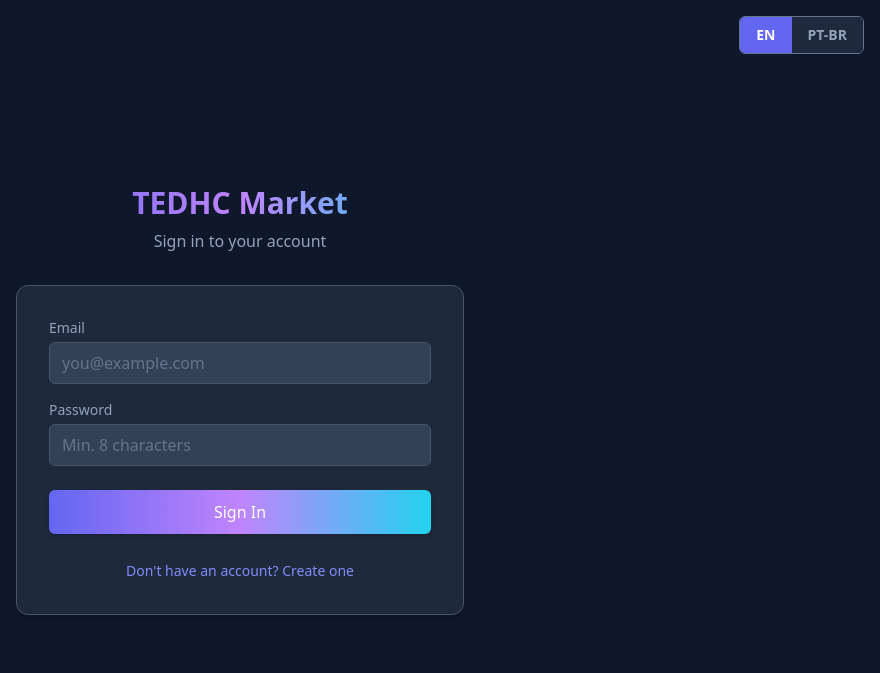
Test case: Login page › toggles between sign-in and register modes
The image size is (880, 673).
// Click toggle to switch to register
Click the button with test id "toggle-mode": coordinates (240, 571) x1=126 y1=561 x2=354 y2=581
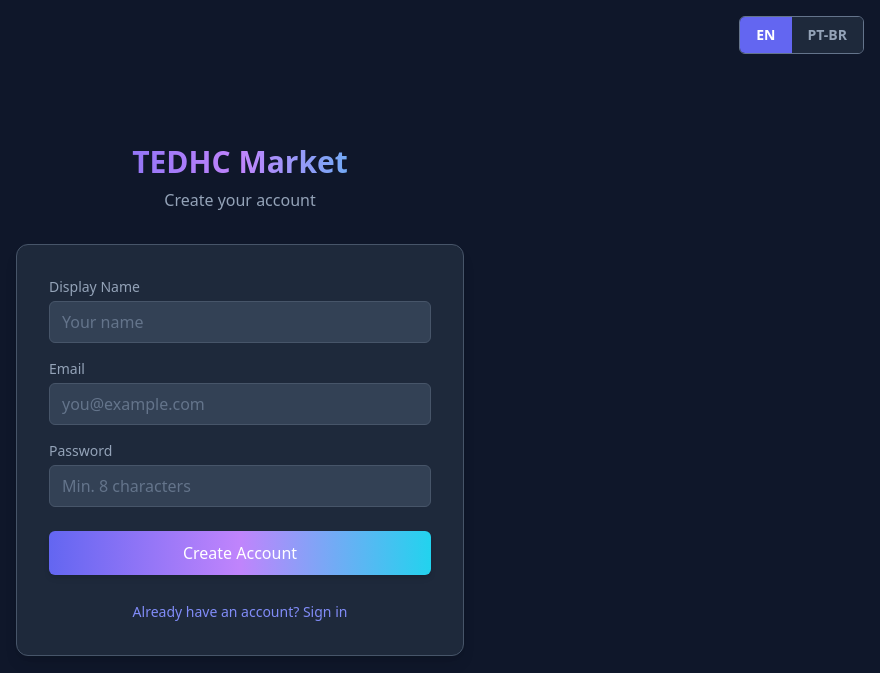
Expected: the button with test id "submit-button" reads "Create Account", x1=49 y1=531 x2=431 y2=575
Expected: the field with test id "display-name-input" is shown, x1=49 y1=301 x2=431 y2=343
// Click toggle to switch back to sign-in
Click the button with test id "toggle-mode": coordinates (240, 612) x1=133 y1=602 x2=347 y2=622
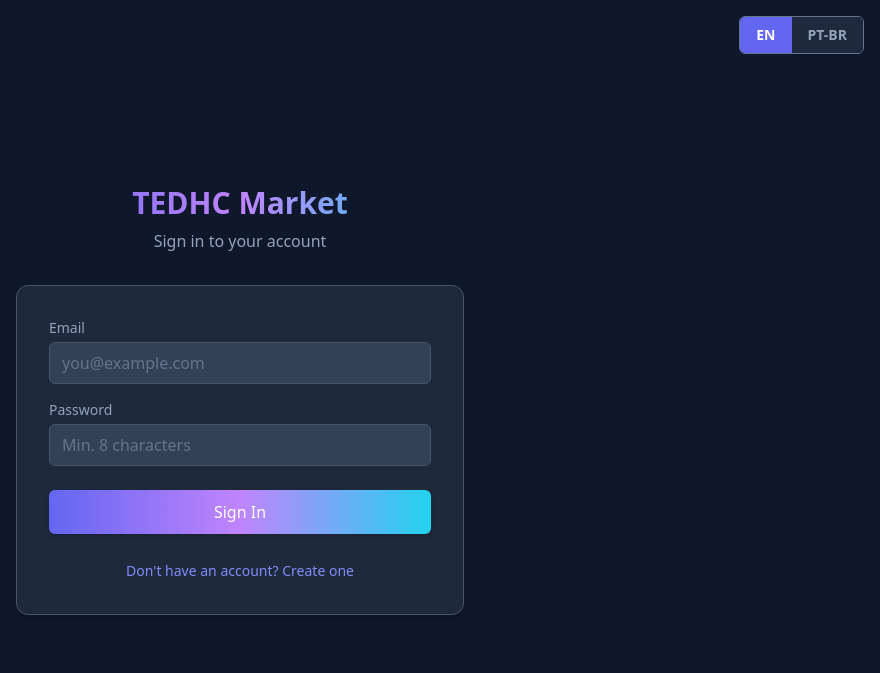
Expected: the button with test id "submit-button" reads "Sign In", x1=49 y1=490 x2=431 y2=534
